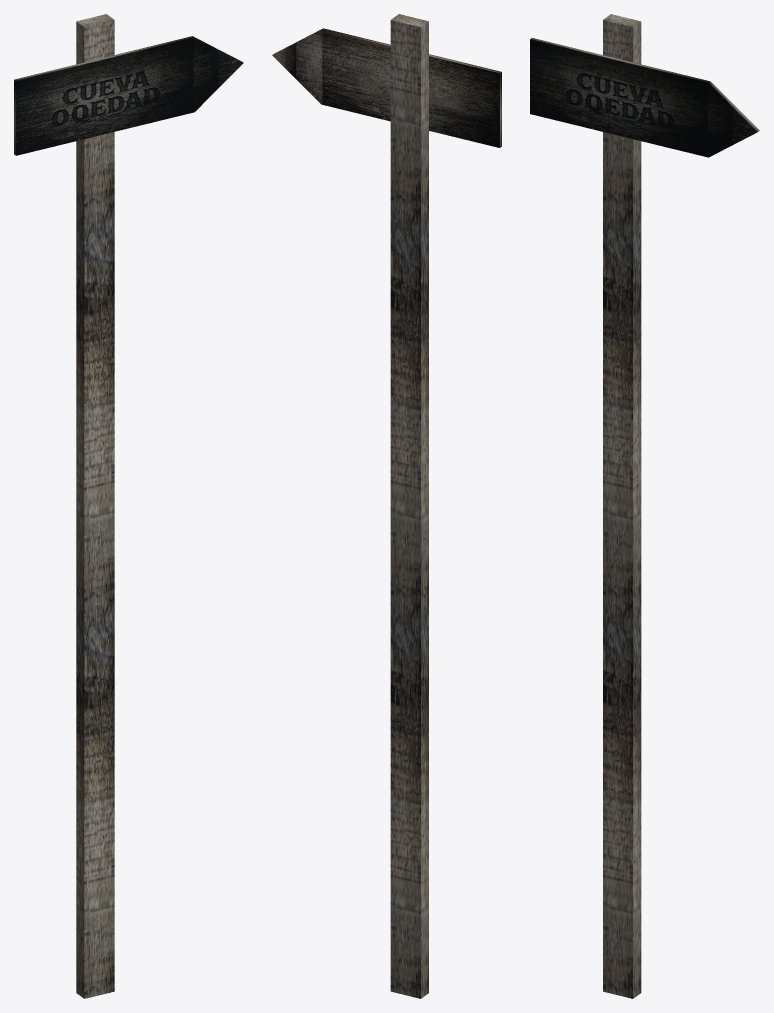
The model's file is Cartel Cueva.fbx.
3 renders of one model, left to right at view 1: azimuth 30°, elevation 25°; view 2: azimuth 150°, elevation 25°; view 3: azimuth 330°, elevation 25°, orthographic.
Visible parts, largest first — view 1: Box002; view 2: Box002; view 3: Box002.
Part boxes in pixels (left/top/right/bottom): Box002: left=14, top=14, right=243, bottom=998; Box002: left=272, top=14, right=501, bottom=998; Box002: left=530, top=14, right=759, bottom=998.
Size of the model in its own units: 63.77 by 260 by 5.03.
